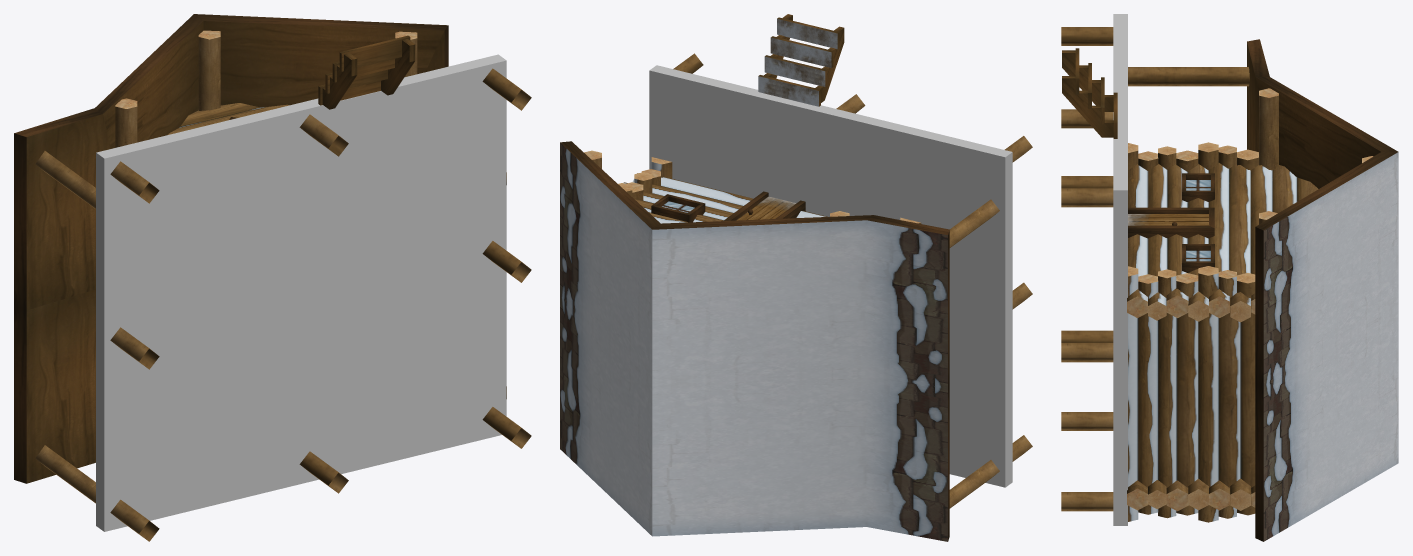
Rendered from Log_House_F.fbx.
3 views of the same model, side by side, from view 1: azimuth 30°, elevation 25°; view 2: azimuth 150°, elevation 25°; view 3: azimuth 270°, elevation 25° (orthographic). The views are drawn at different scales.
Visible parts, largest first — view 1: Log_House_F; view 2: Log_House_F; view 3: Log_House_F.
Part boxes in pixels (x1,y1,x2,y2): Log_House_F: [14, 14, 531, 541]; Log_House_F: [560, 14, 1032, 541]; Log_House_F: [1061, 14, 1398, 541].
Size of the model in its own units: 126 by 123 by 93.67.
